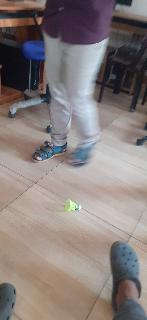shuttlecock: (65, 200, 80, 210)
